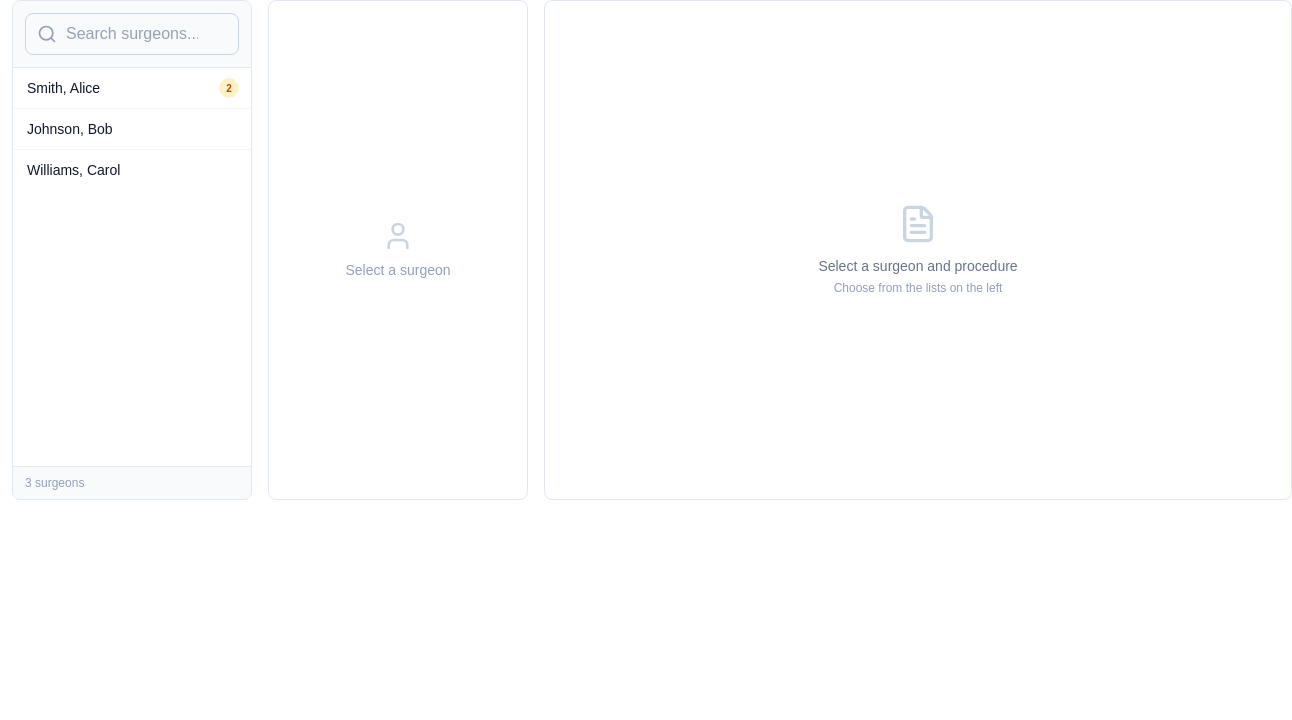
SurgeonOverridePanel › surgeon selection › resets procedure selection when switching surgeons
This screenshot has width=1292, height=720.
# Select surgeon and procedure
Click the text "Smith, Alice". click: (64, 88)
box: [27, 78, 100, 98]
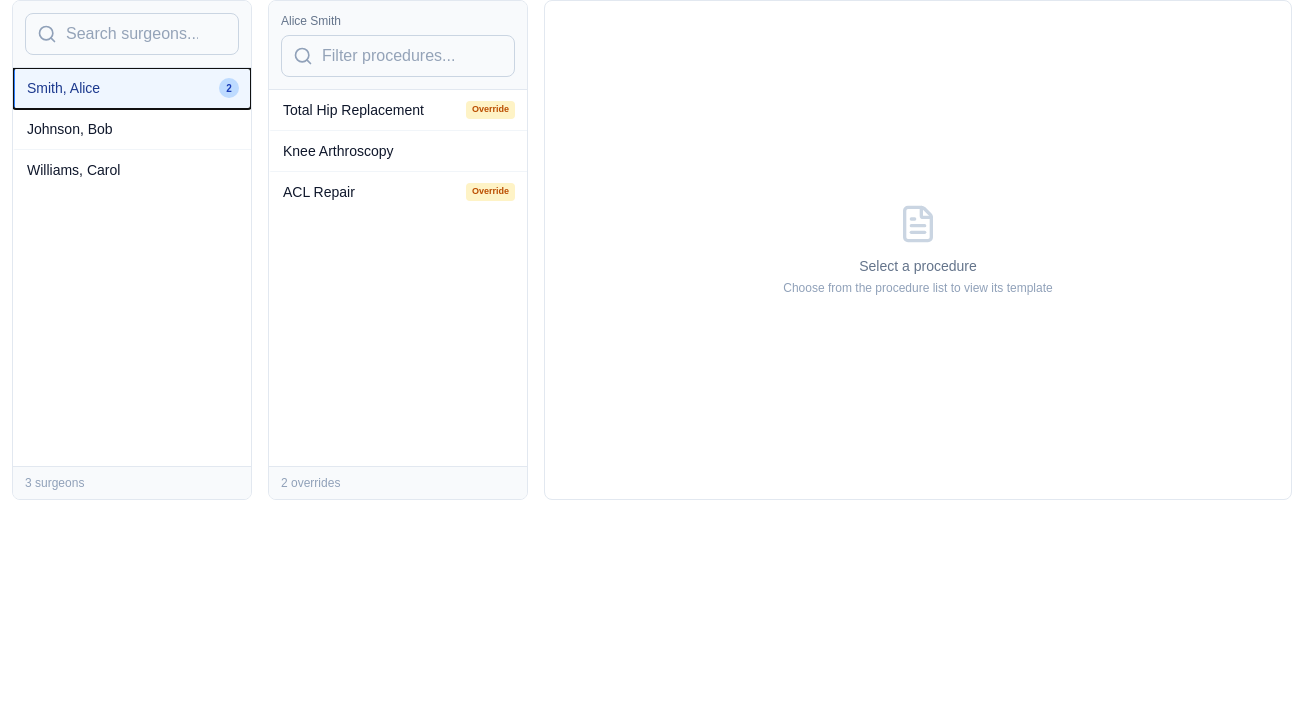
Click the text "Total Hip Replacement". click: (353, 110)
box: [283, 100, 424, 120]
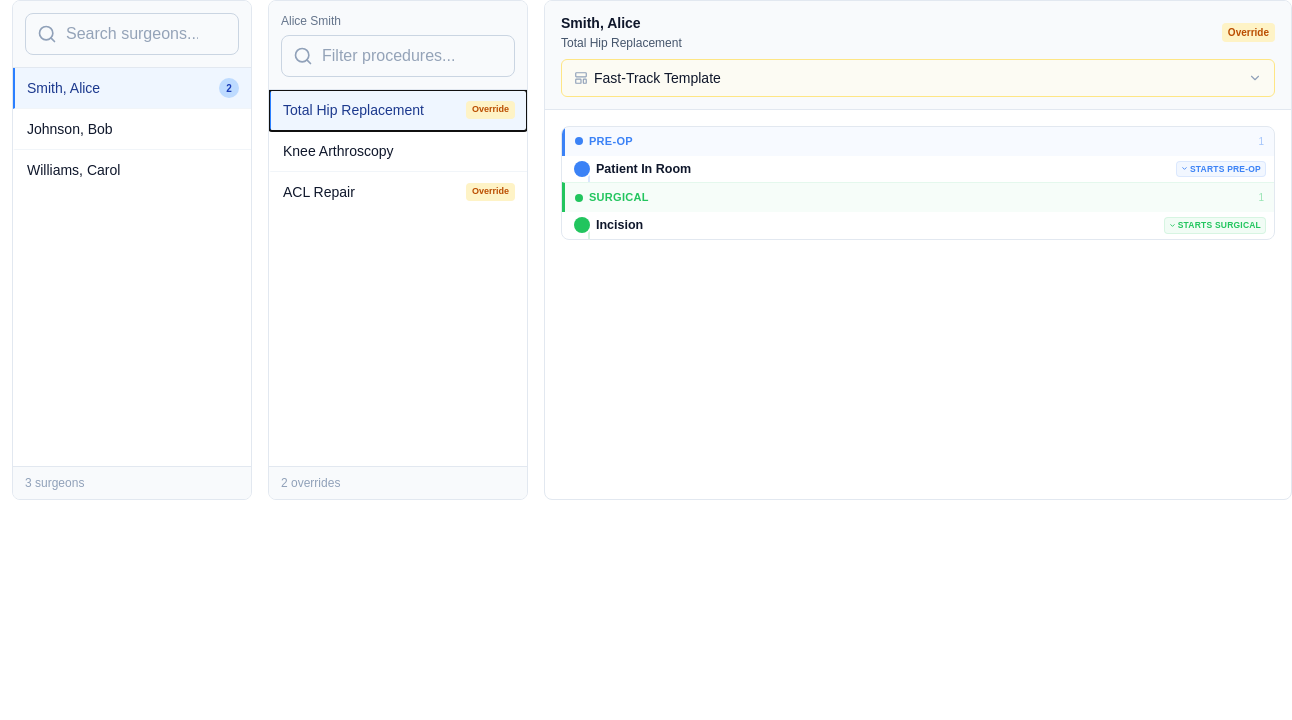
# Switch surgeon
Click the button "Johnson, Bob". click: (132, 130)
box: [13, 109, 251, 150]
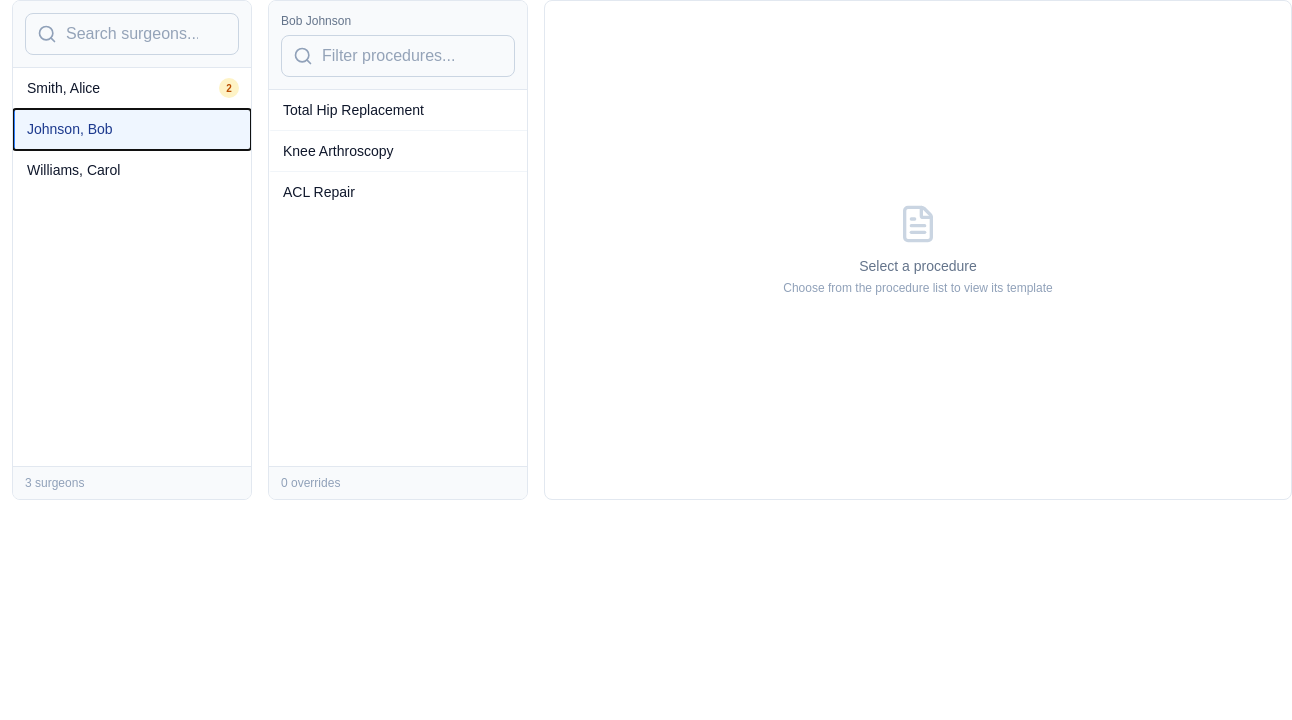
Expected: the text "Select a procedure" is shown, [859, 258, 977, 274]
